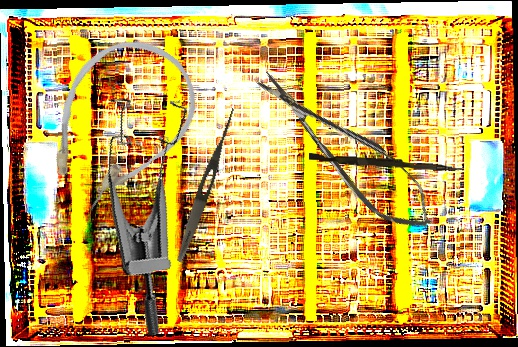Cannula: (16, 16, 219, 231)
Dressing Forceps: (173, 106, 239, 264)
Micro Scissor: (247, 53, 445, 246)
Pusher: (308, 153, 463, 172)
Speculum: (66, 76, 256, 338)
